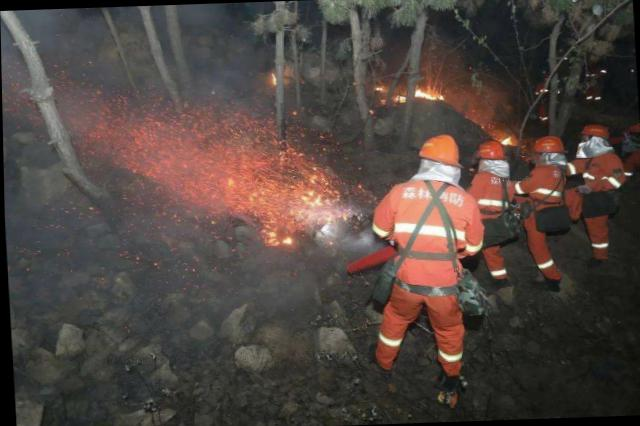fire: (102, 93, 351, 249), (380, 77, 453, 107), (495, 126, 517, 148), (267, 69, 275, 85)
